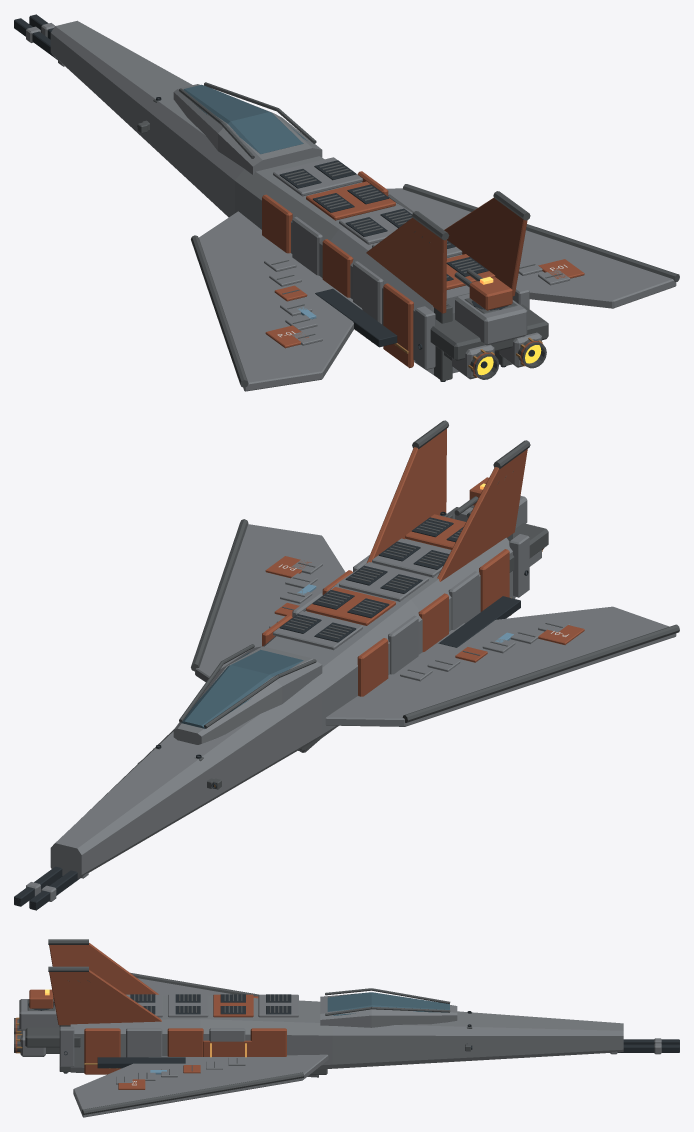
File: mars_interceptor.glb
3 renders of one model, top to bottom at view 1: azimuth 30°, elevation 25°; view 2: azimuth 150°, elevation 25°; view 3: azimuth 270°, elevation 25°, orthographic. The views are drawn at different scales.
Visible parts, largest first — view 1: FleetHull, mesh_pd_yaw_0; view 2: FleetHull; view 3: FleetHull, mesh_pd_yaw_0.
Part boxes in pixels (x1=…): FleetHull: x1=14, y1=14, x2=679, y2=391; mesh_pd_yaw_0: x1=469, y1=277, x2=512, y2=310; FleetHull: x1=14, y1=420, x2=679, y2=910; FleetHull: x1=14, y1=939, x2=679, y2=1117; mesh_pd_yaw_0: x1=29, y1=989, x2=53, y2=1008.
Size of the model in its own units: 14.22 by 5.39 by 27.22.
